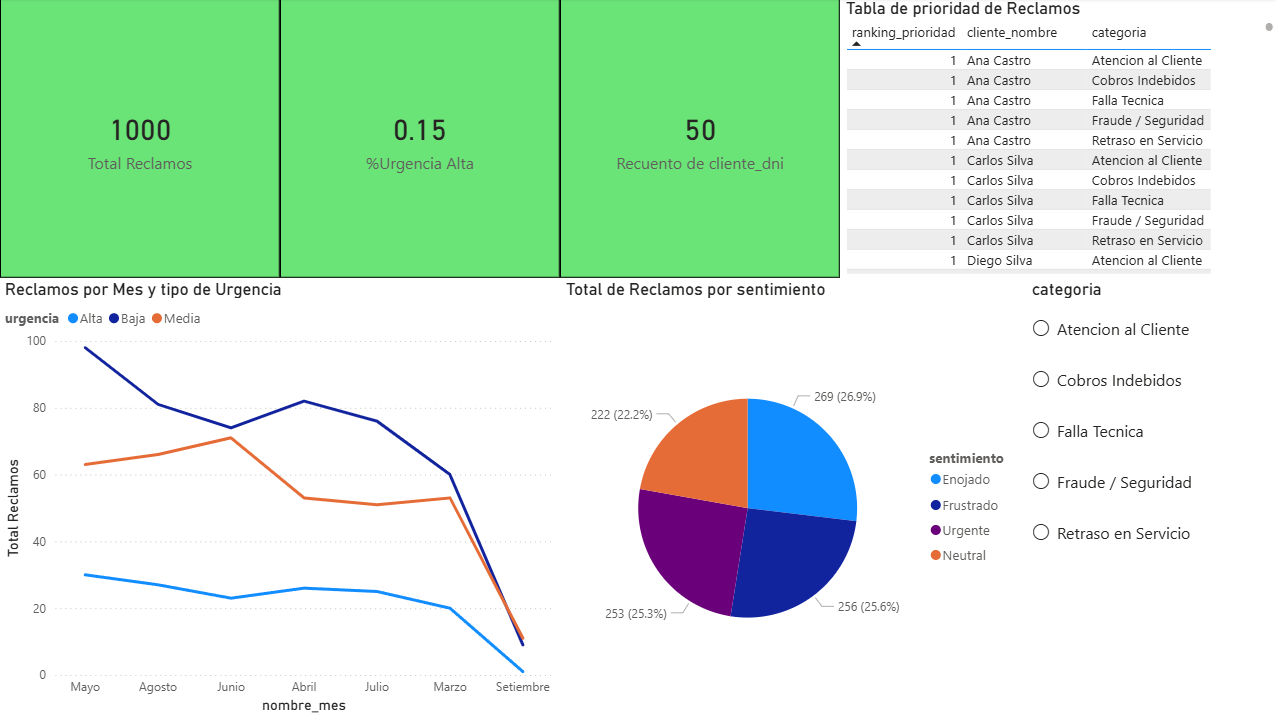

The dashboard page shown, as its layout file describes it:
{"tool":"powerbi","page":{"name":"Página 1","canvas":[1280,720],"ordinal":0},"visuals":[{"type":"card","fields":{"Values":["public reclamos.Total Reclamos"]},"box":[0,0,280.3,280.3],"z":0},{"type":"card","fields":{"Values":["public reclamos.%Urgencia Alta"]},"box":[280.3,0,280.3,280.3],"z":1000},{"type":"card","fields":{"Values":["Count(public reclamos.cliente_dni)"]},"box":[560.6,0,280.3,280.3],"z":2000},{"type":"lineChart","title":"Reclamos por Mes y tipo de Urgencia","fields":{"Y":["public reclamos.Total Reclamos"],"Category":["public dim_fecha.nombre_mes"],"Series":["public reclamos.urgencia"]},"box":[0,280.8,561.6,439.7],"z":3000},{"type":"pieChart","title":"Total de Reclamos por sentimiento","fields":{"Category":["public reclamos.sentimiento"],"Y":["public reclamos.Total Reclamos"]},"box":[561.6,280.8,465.6,439.7],"z":4000},{"type":"tableEx","title":"Tabla de prioridad de Reclamos","fields":{"Values":["public vista_ranking_urgencia.ranking_prioridad","public reclamos.cliente_nombre","public reclamos.categoria"]},"box":[841.7,0,438.3,281.2],"z":5000},{"type":"listSlicer","fields":{"Values":["public reclamos.categoria"]},"box":[1028,281,252,439],"z":5001}]}

Visuals, with their boxes in screenshot pixels (x1, y1, x2, y2), scaled from the page's 1280x720 canvas onto the 1276x716 screenshot:
card - public reclamos.Total Reclamos: crop(0, 0, 279, 279)
card - public reclamos.%Urgencia Alta: crop(279, 0, 559, 279)
card - Count(public reclamos.cliente_dni): crop(559, 0, 838, 279)
"Reclamos por Mes y tipo de Urgencia" lineChart: crop(0, 279, 560, 715)
"Total de Reclamos por sentimiento" pieChart: crop(560, 279, 1024, 715)
"Tabla de prioridad de Reclamos" tableEx: crop(839, 0, 1275, 280)
listSlicer - public reclamos.categoria: crop(1025, 279, 1275, 715)
